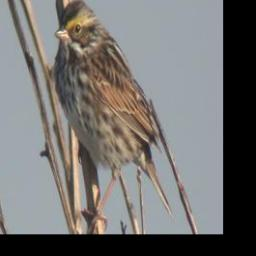Sparrow: (52, 0, 176, 231)
